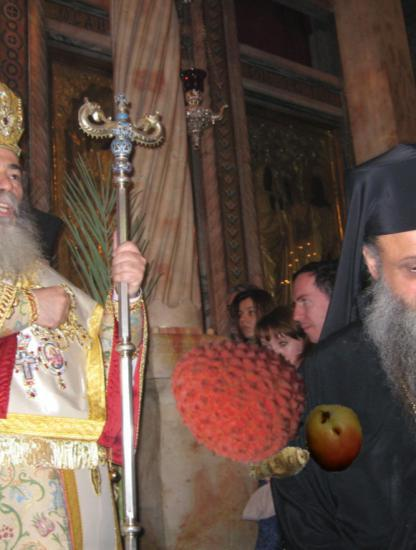Ginger: (248, 432, 313, 497)
Lychee: (164, 326, 310, 472)
Papaya: (298, 403, 369, 474)
